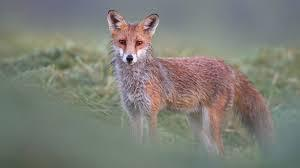Non_Gorille: (91, 0, 283, 154)
